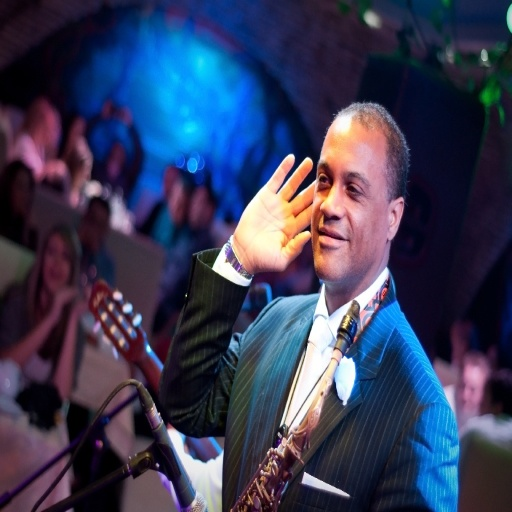hand: (232, 158, 312, 276), (72, 280, 92, 322), (51, 283, 72, 322)
